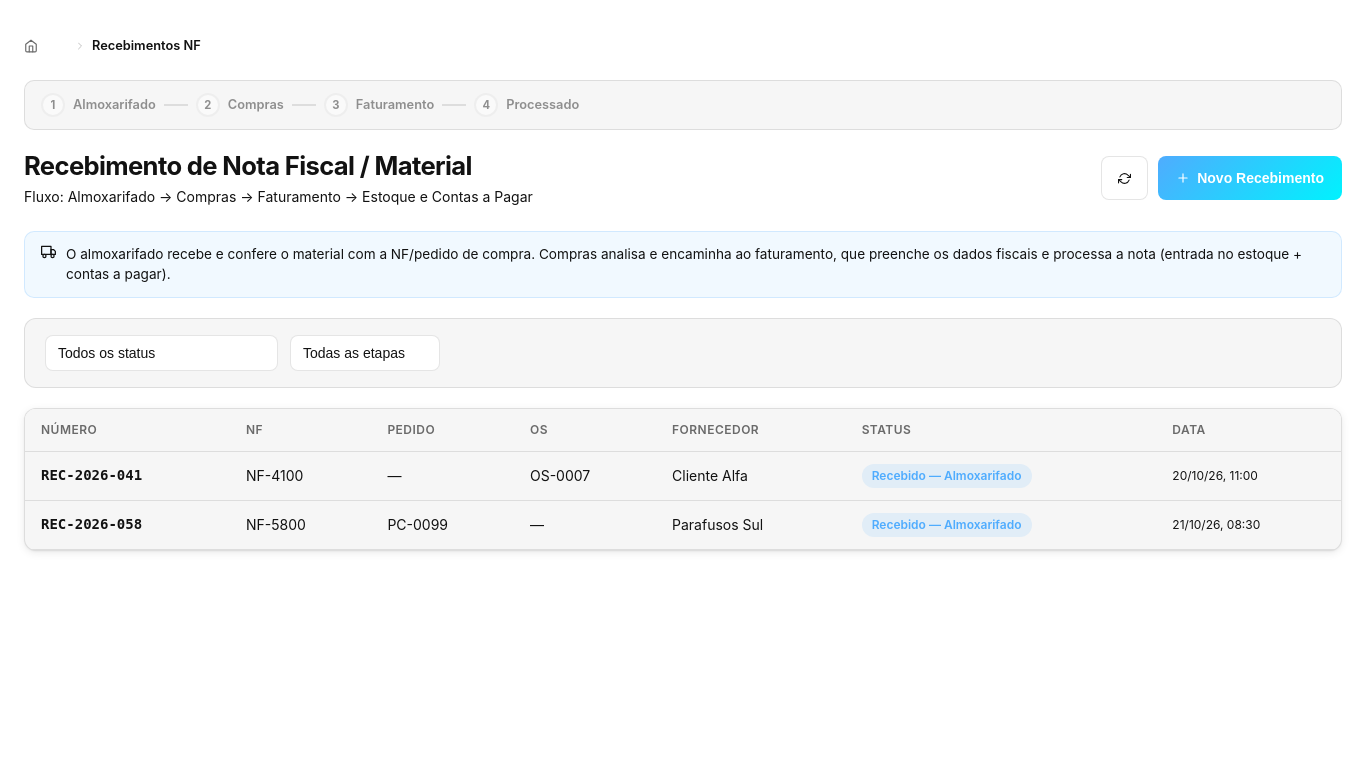
Test case: (d) com pedido SEM OS: o campo trava em "Sem OS"; voltar para a nota destrava
Click the button "Novo Recebimento": (1250, 178) [1158, 156, 1342, 200]
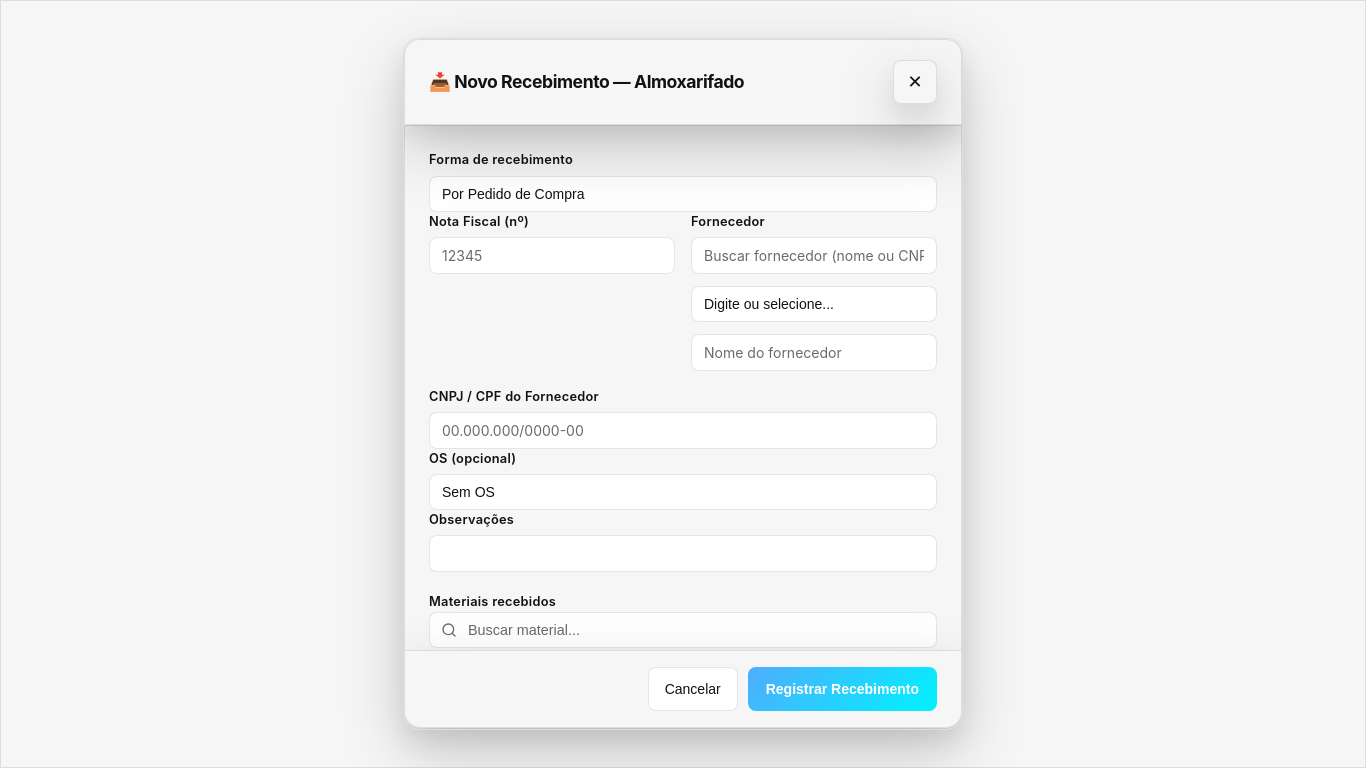
Select "Por Pedido de Compra" in the dropdown below "Forma de recebimento": (683, 194) [429, 176, 937, 212]
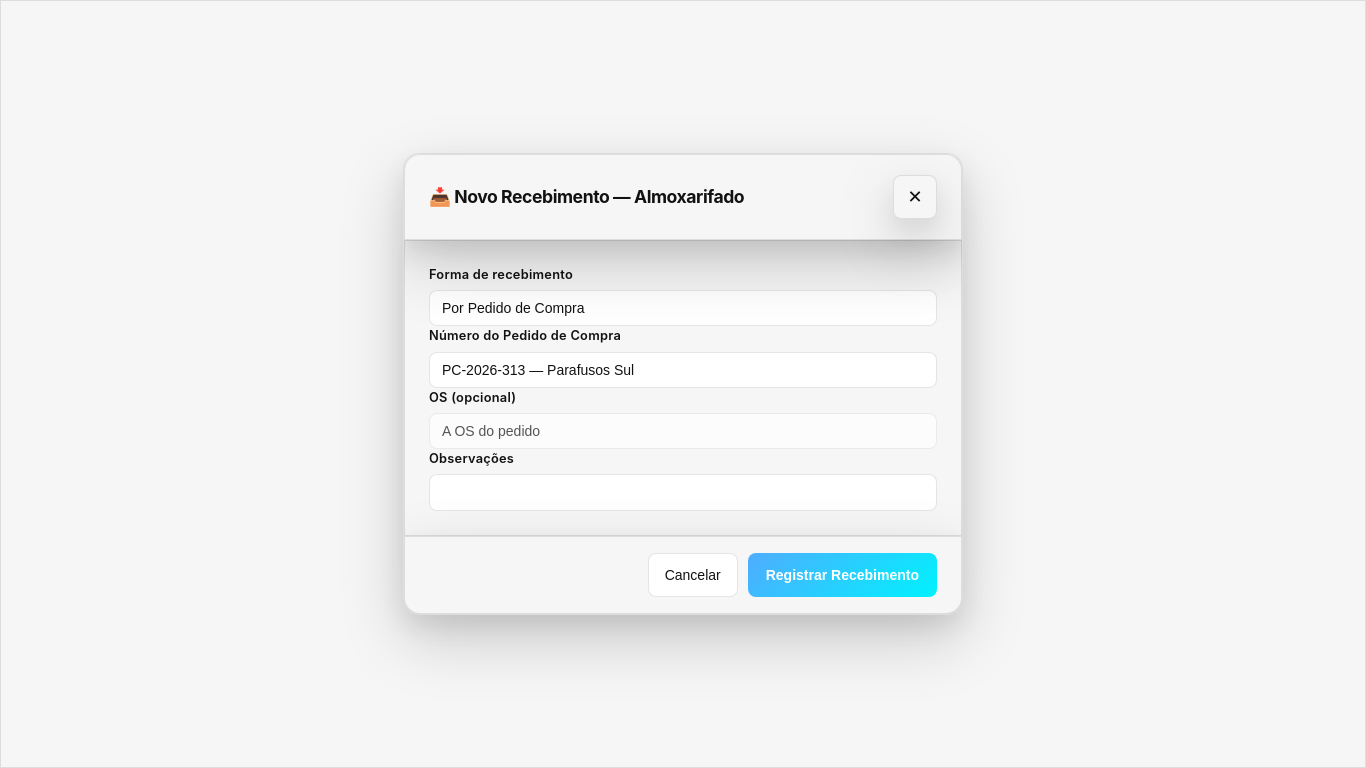
Select "PC-2026-313 — Parafusos Sul" in the dropdown below "Número do Pedido de Compra": (683, 370) [429, 352, 937, 388]
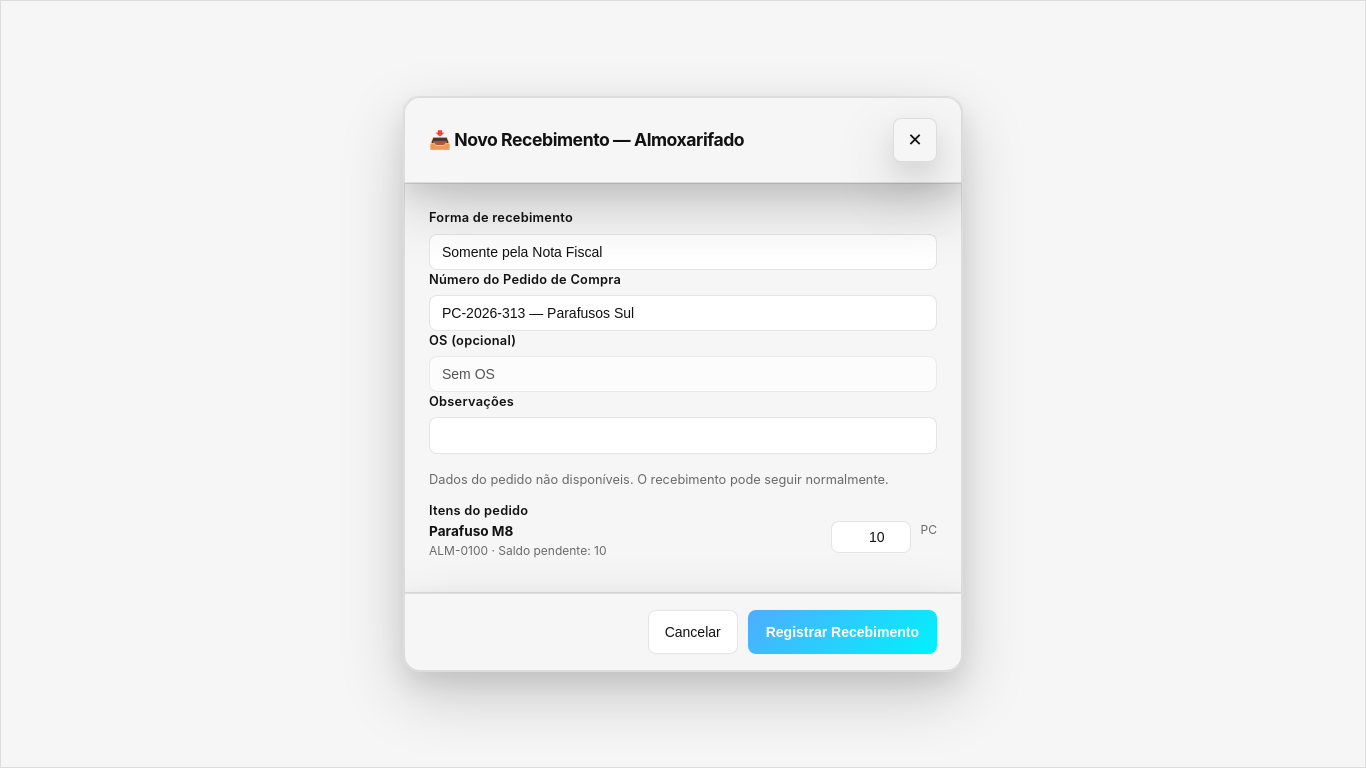
Now the dropdown with test id "receb-os" is disabled, box [429, 356, 937, 392]
Select "Somente pela Nota Fiscal" in the dropdown below "Forma de recebimento": (683, 252) [429, 234, 937, 270]
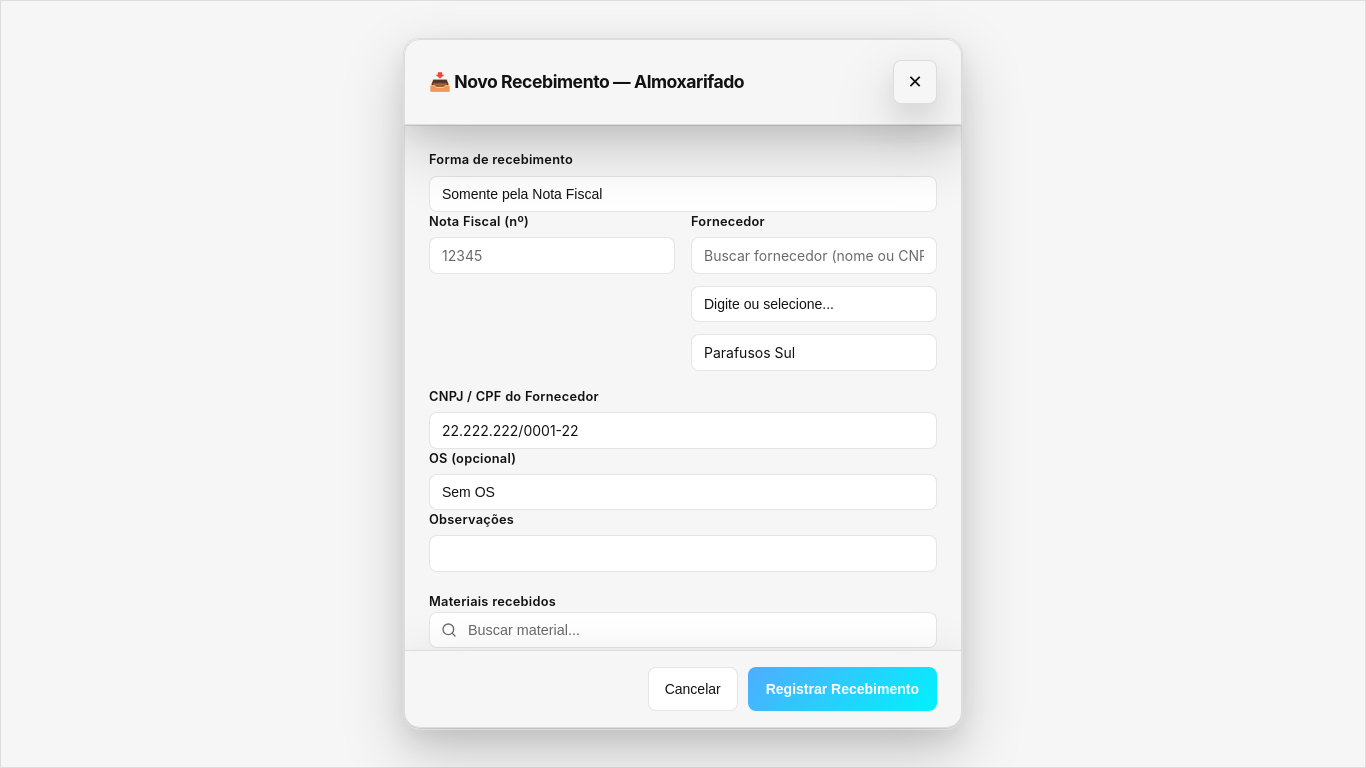
Now the dropdown with test id "receb-os" shows "Sem OS", box [429, 474, 937, 510]
Now the dropdown with test id "receb-os" is enabled, box [429, 474, 937, 510]
